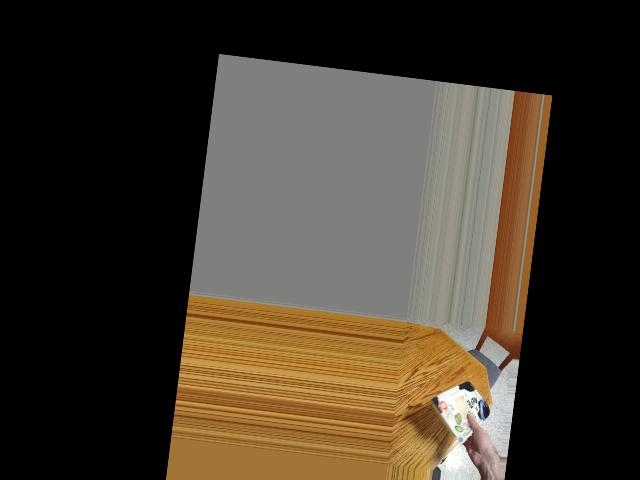cheese: (436, 379, 485, 440)
